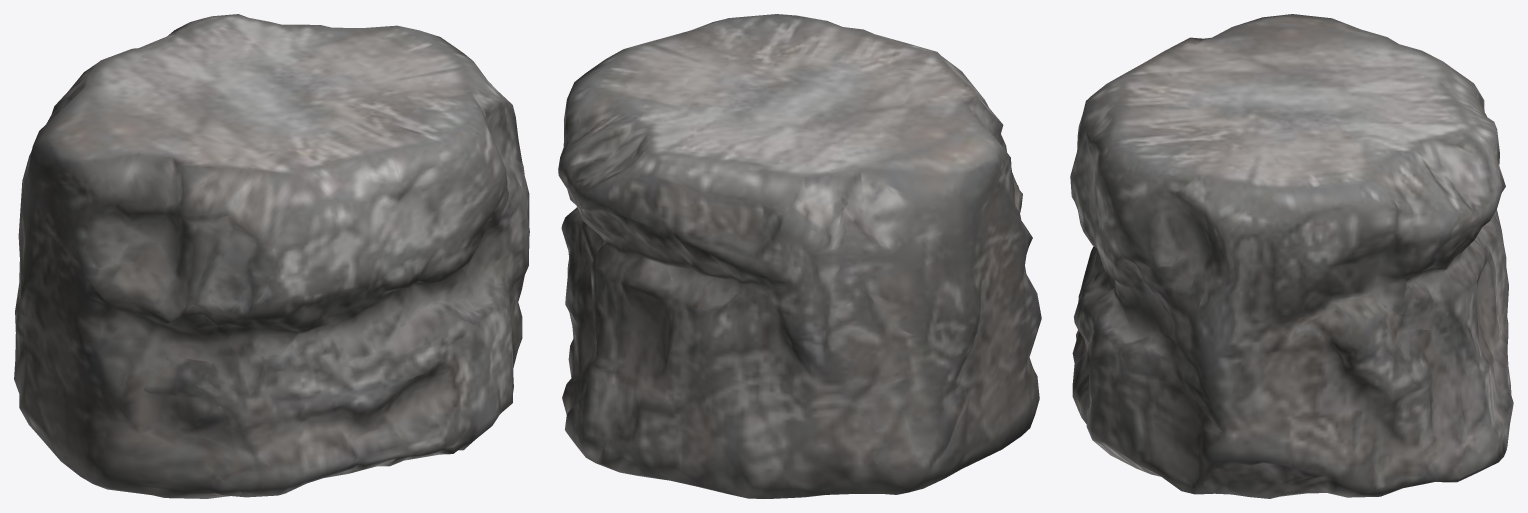
File: SM_rock_03.glb
3 renders of one model, left to right at view 1: azimuth 30°, elevation 25°; view 2: azimuth 150°, elevation 25°; view 3: azimuth 270°, elevation 25°, orthographic. The views are drawn at different scales.
Visible parts, largest first — view 1: SM_rock_03; view 2: SM_rock_03; view 3: SM_rock_03.
Boxes of the visible parts, x1,y1,x2,y2 form: SM_rock_03: (14,14,529,498); SM_rock_03: (558,14,1041,498); SM_rock_03: (1070,14,1513,498).
Bounding box in the file's own units: 1.56 × 1.11 × 1.41.
Materials: 1 (1 with a texture image).
